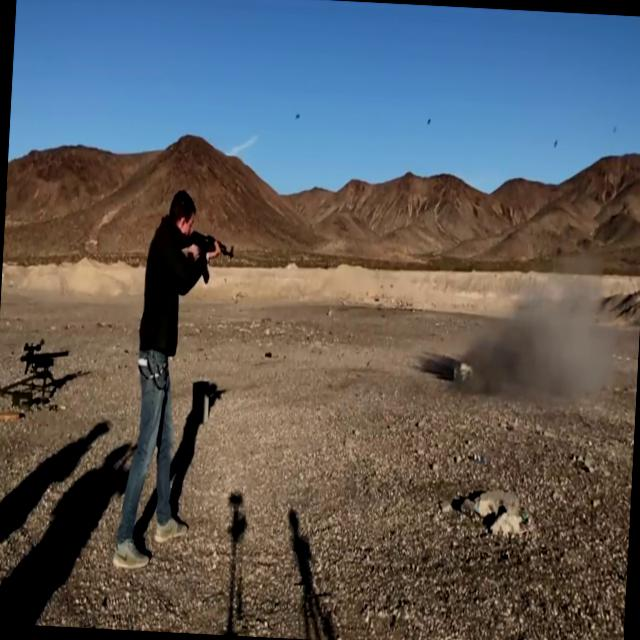long weapon: (12, 334, 85, 402), (172, 223, 240, 290)
